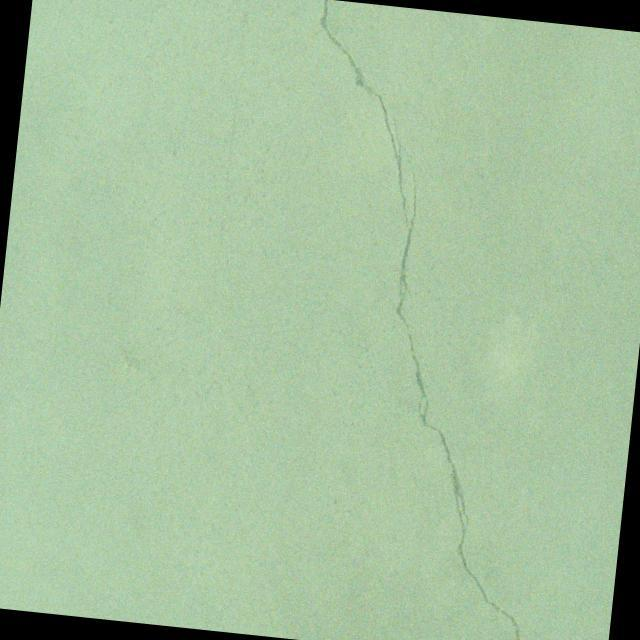crack: (254, 0, 588, 640), (406, 593, 475, 640)
